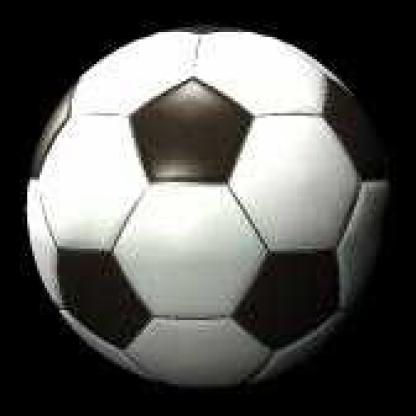ball: (25, 26, 395, 389)
